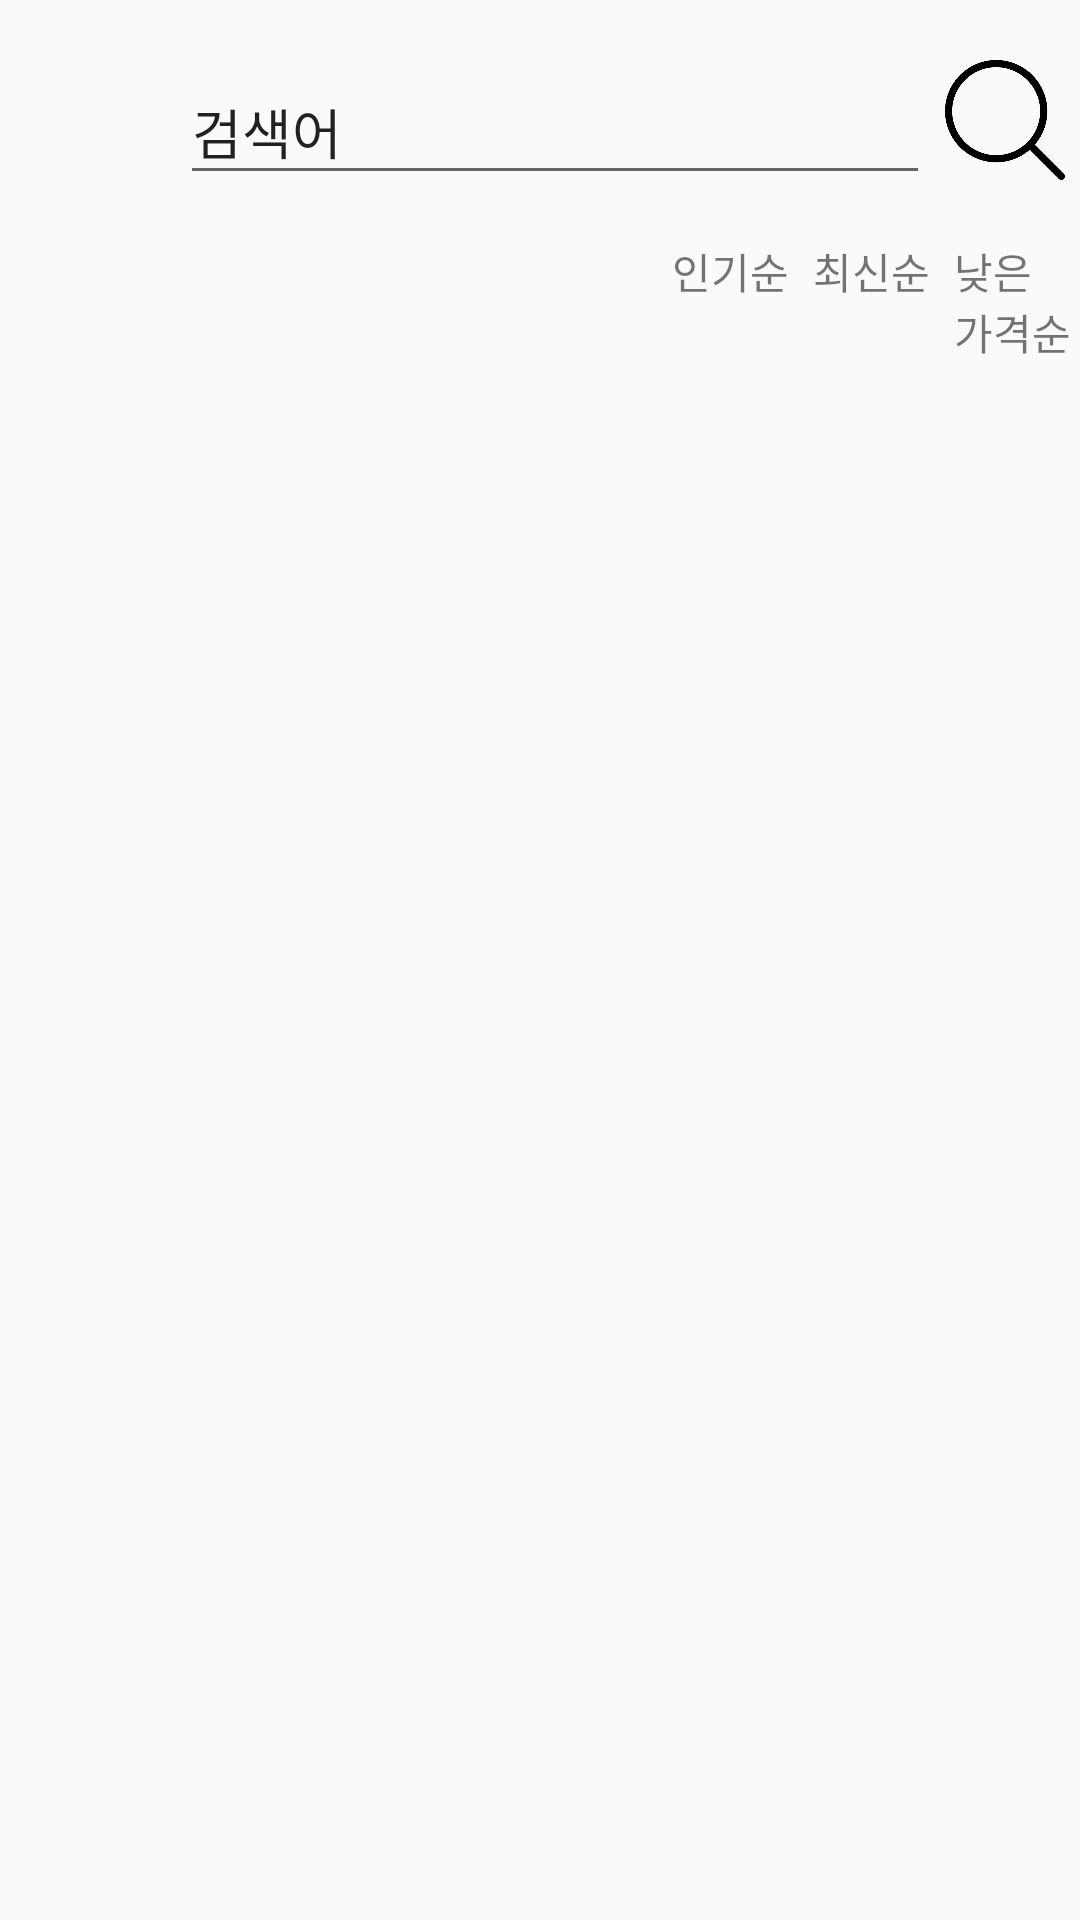

Point at icon controls on the screen. Image size 1080x1920, points as (x=x, y=y).
search: (x=1005, y=120)
